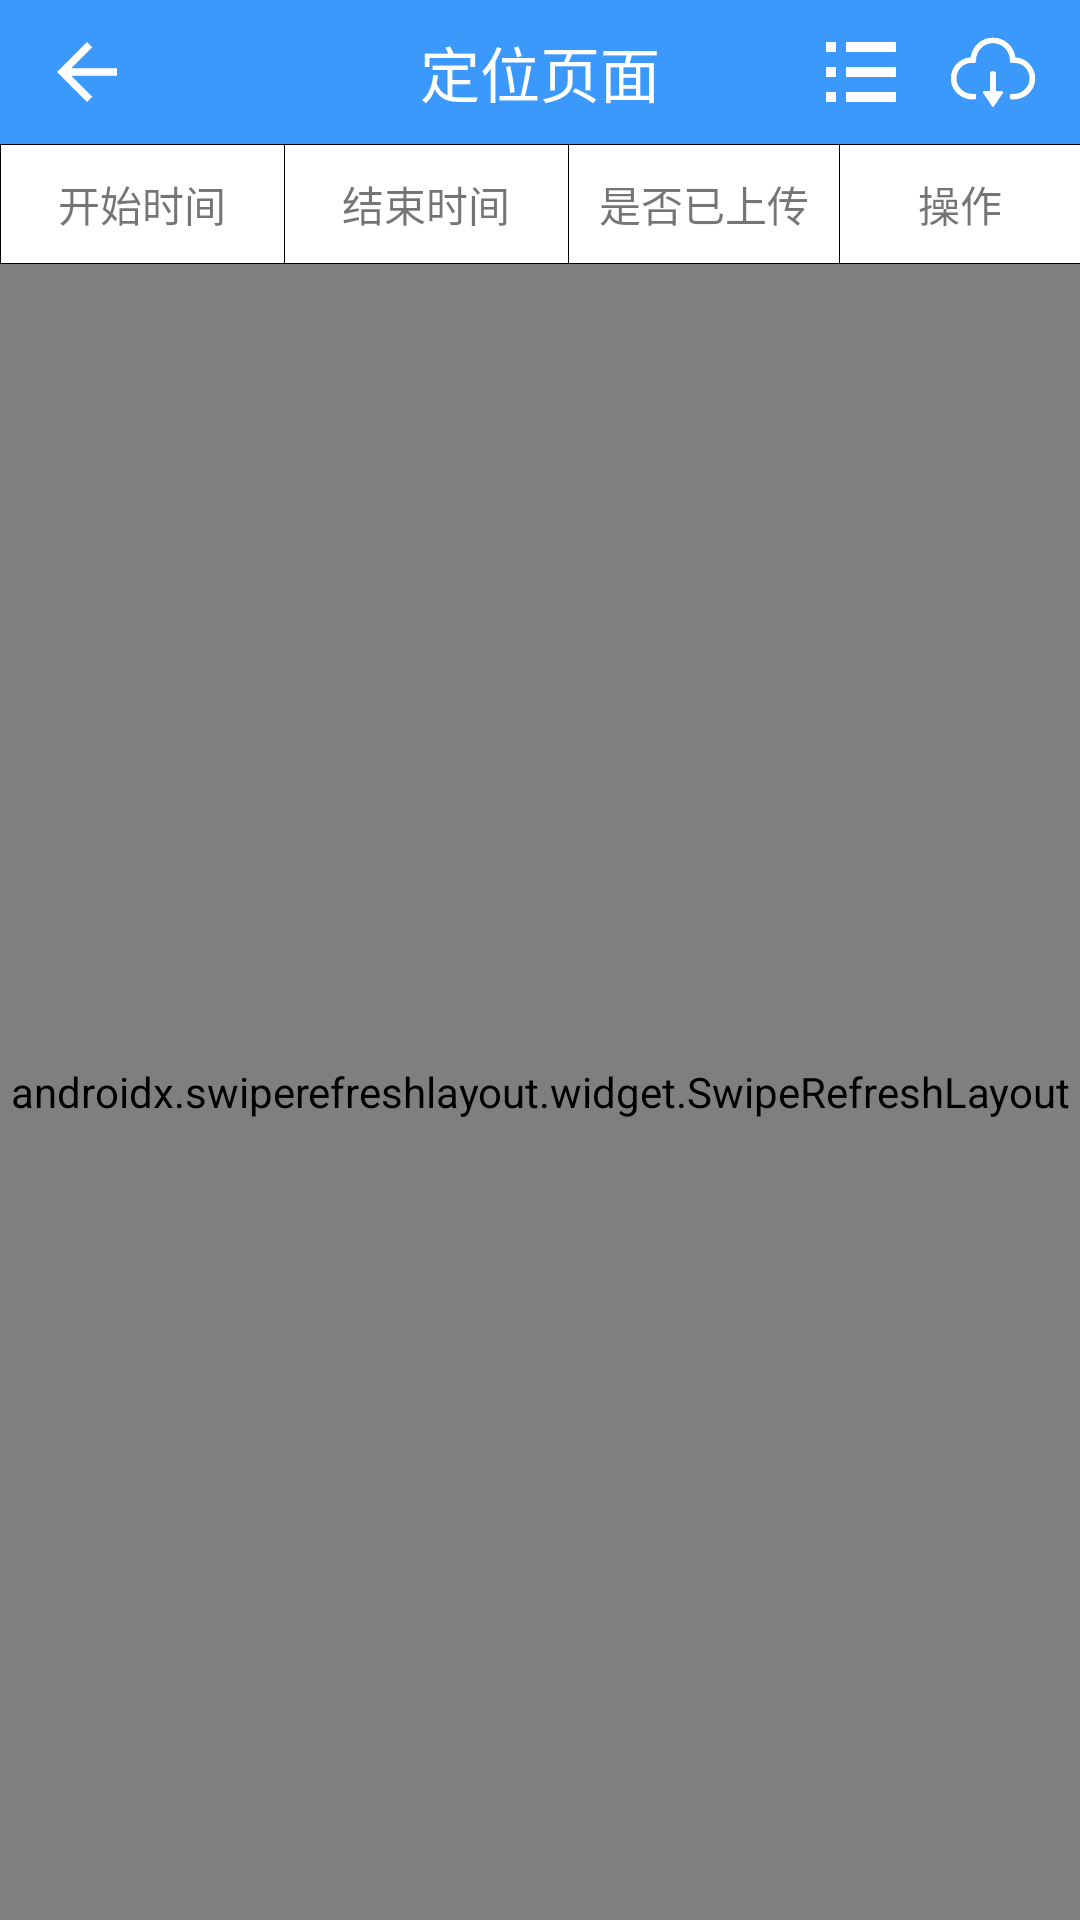

Icon bounding boxes for this 1080w x 1920h phone screenshot, format (x1, y1, x2, y2):
list: (826, 42, 896, 102)
